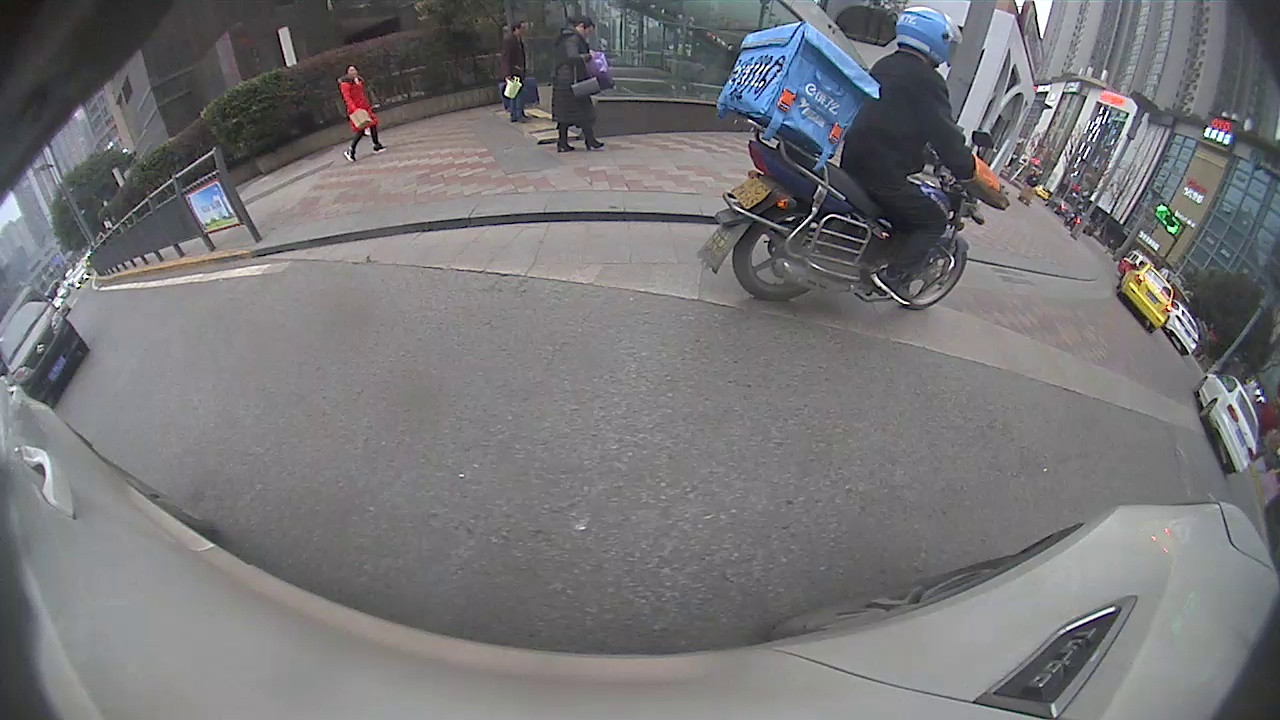car: (2, 283, 92, 410), (1192, 371, 1262, 477), (1115, 261, 1175, 330)
front: (903, 236, 970, 307)
person: (555, 11, 595, 153), (504, 17, 528, 123), (342, 62, 363, 162)
rear: (733, 207, 817, 302)
rider: (696, 5, 1012, 311)
